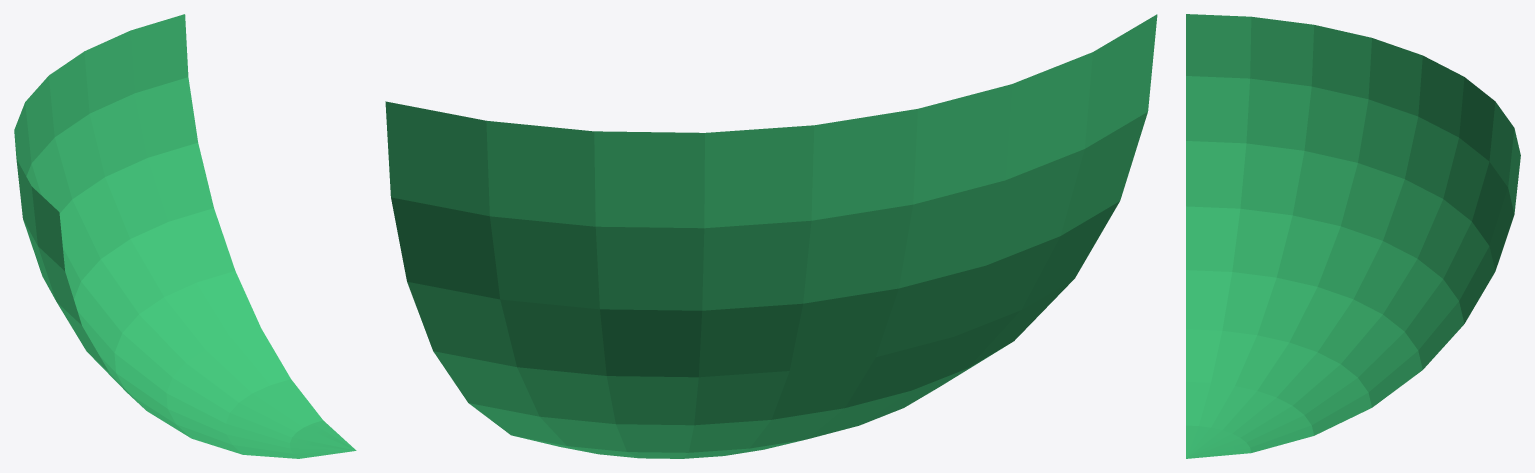
File: r4c2_face_green.gltf
3 views of the same model, side by side, from view 1: azimuth 30°, elevation 25°; view 2: azimuth 150°, elevation 25°; view 3: azimuth 270°, elevation 25° (orthographic). The views are drawn at different scales.
Visible parts, largest first — view 1: r4c2_face_green; view 2: r4c2_face_green; view 3: r4c2_face_green.
Part boxes in pixels (x1,y1,x2,y2): r4c2_face_green: [14, 14, 356, 458]; r4c2_face_green: [385, 14, 1157, 458]; r4c2_face_green: [1186, 14, 1520, 458].
Size of the model in its own units: 2 by 2 by 2.
Materials: 1 (1 with a texture image).
